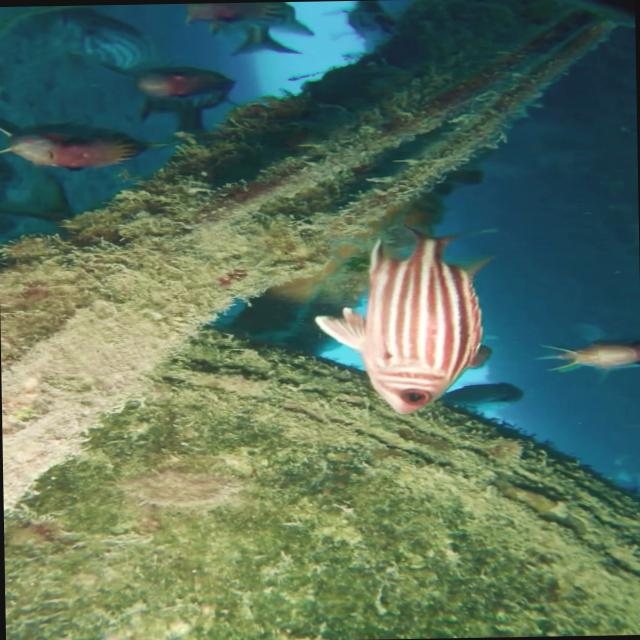Asker Baligi: (312, 220, 502, 416)
